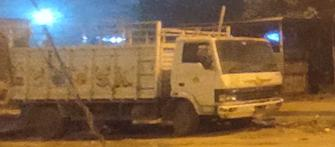Truck: (5, 25, 285, 136)
